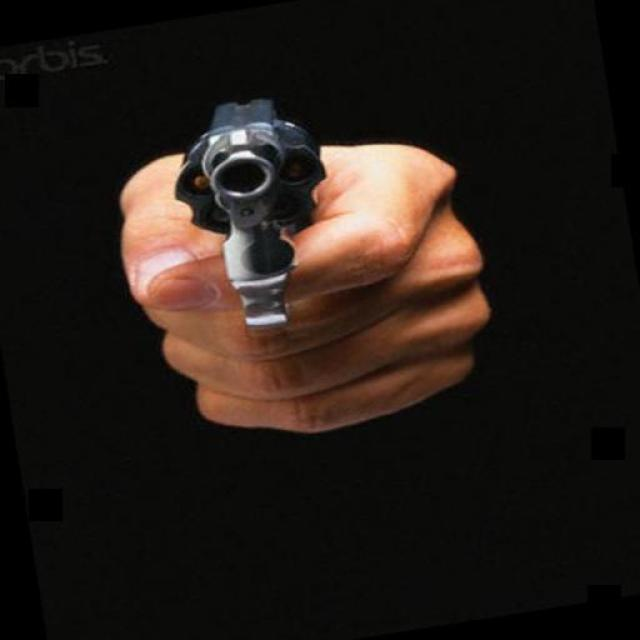gun: (158, 79, 362, 342)
